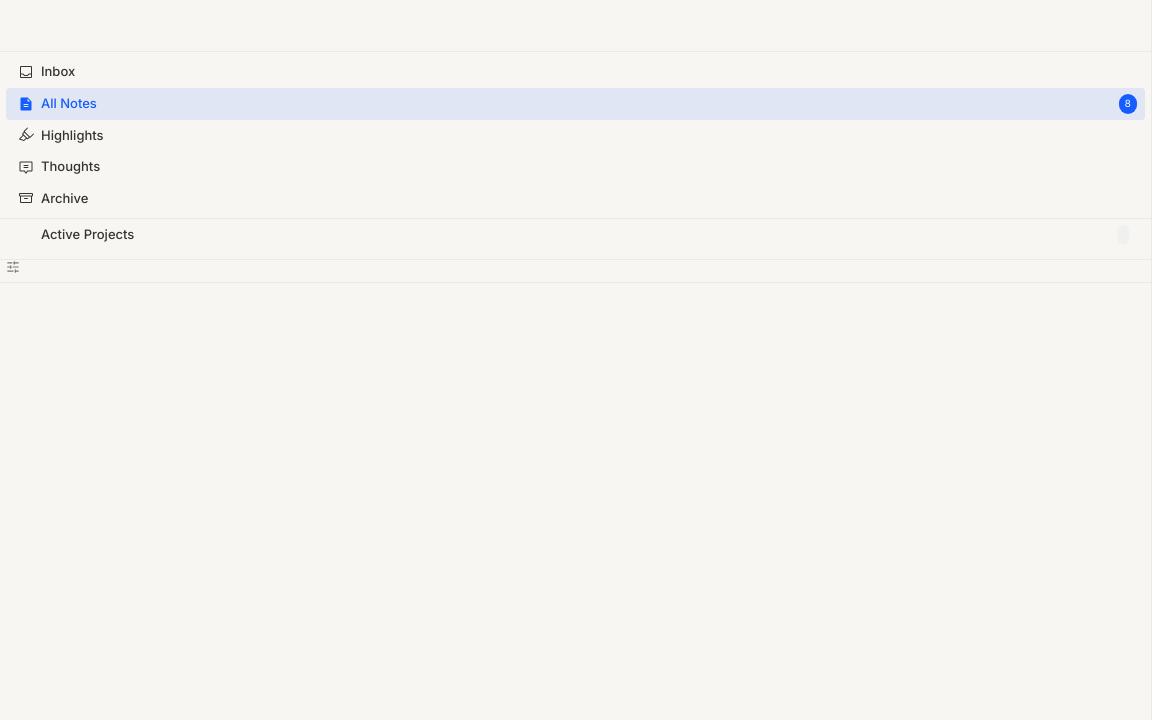
it: Sidebar › view row actions › shows View-specific context menu labels on right-click
Step 1. Right-click the button "Active Projects" → point(88, 234), box left=6, top=219, right=1145, bottom=251
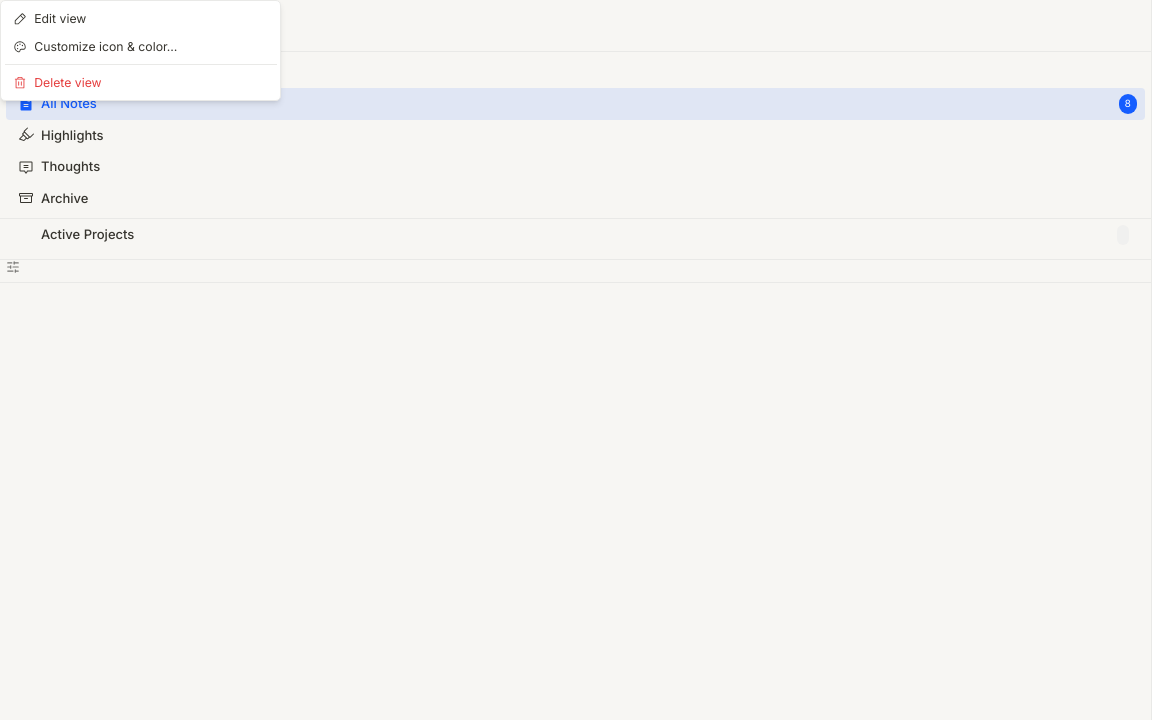
Now the button "Edit view" is shown, box left=4, top=4, right=277, bottom=32
Now the button "Customize icon & color…" is shown, box left=4, top=32, right=277, bottom=60
Now the button "Delete view" is shown, box left=4, top=68, right=277, bottom=96
